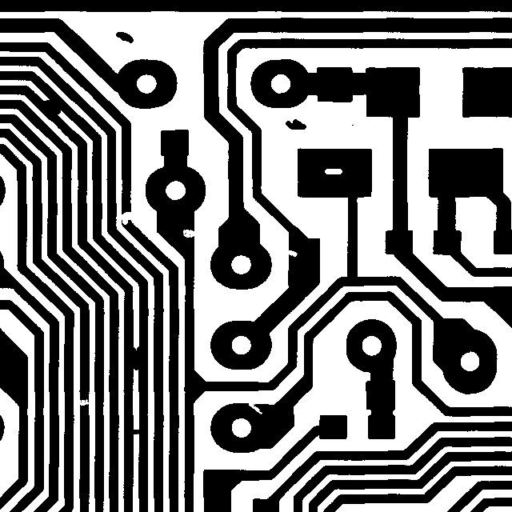copper: (278, 111, 314, 137), (108, 24, 141, 50)
mousebite: (241, 394, 270, 422), (175, 222, 204, 245), (277, 242, 305, 264)
open: (110, 204, 141, 232), (70, 391, 98, 413)
pin-hole: (317, 161, 350, 182)
short: (122, 338, 150, 378), (34, 92, 68, 122), (123, 422, 152, 443)
